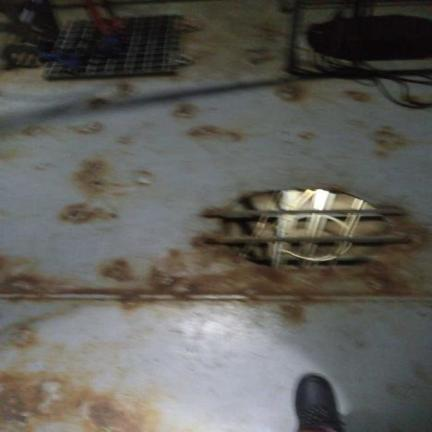karat: (0, 215, 431, 301), (0, 372, 155, 431), (71, 159, 123, 198), (59, 202, 116, 223), (373, 126, 407, 155), (186, 125, 245, 141), (246, 48, 274, 64), (71, 121, 103, 134), (173, 103, 198, 118)
